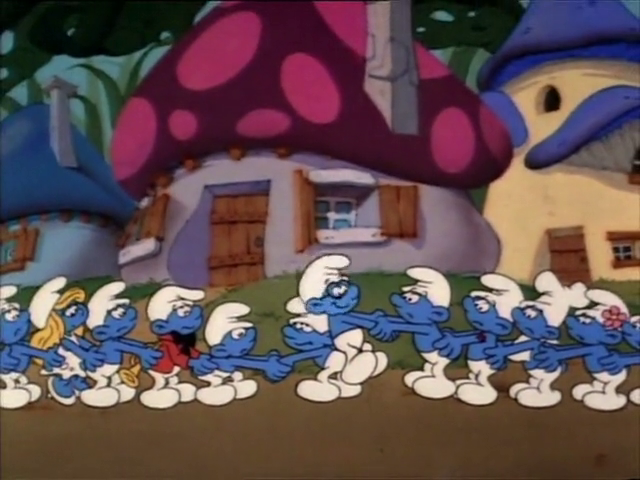smurf: (295, 251, 387, 385), (386, 263, 456, 401), (456, 271, 521, 403), (511, 271, 573, 409), (281, 295, 359, 404), (33, 276, 96, 405), (142, 283, 203, 410), (572, 289, 630, 414), (81, 279, 137, 407), (200, 299, 257, 407), (1, 283, 33, 415)
